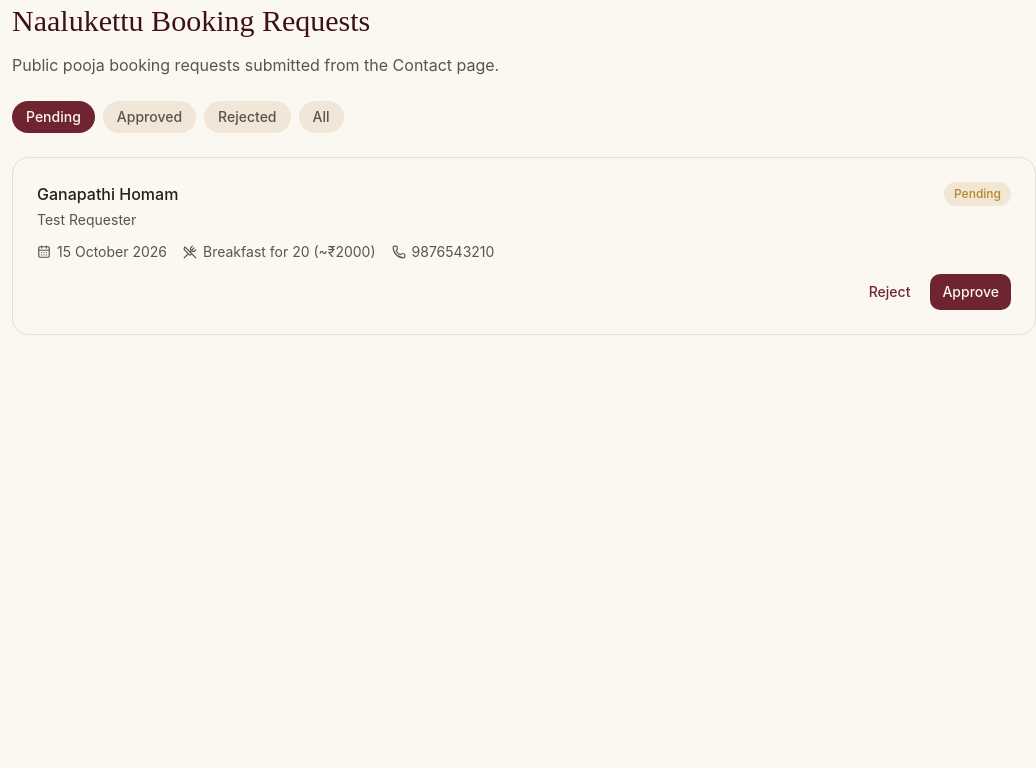
NaalukettuBookingsAdminPanel › approves a pending booking and refetches the list
expect the text "Ganapathi Homam" is shown: met, box x1=37 y1=182 x2=178 y2=206
Click the button "Approve" at point(971, 292), box x1=930 y1=274 x2=1011 y2=310
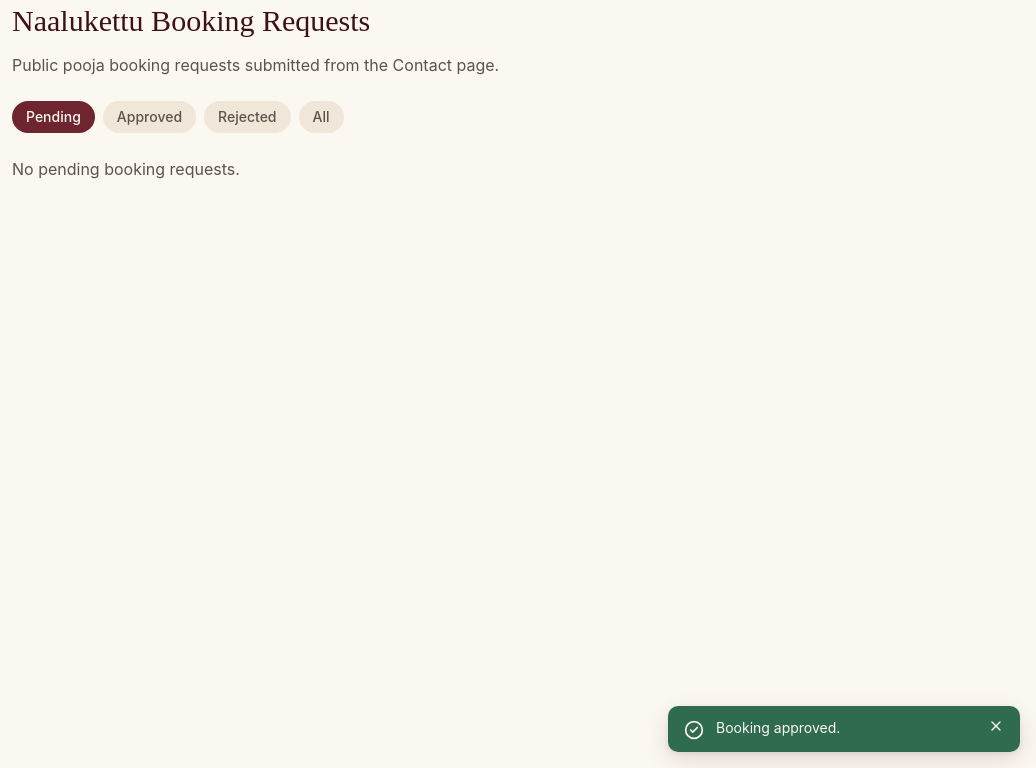
expect the text "No pending booking requests." is shown: met, box x1=12 y1=159 x2=240 y2=179
